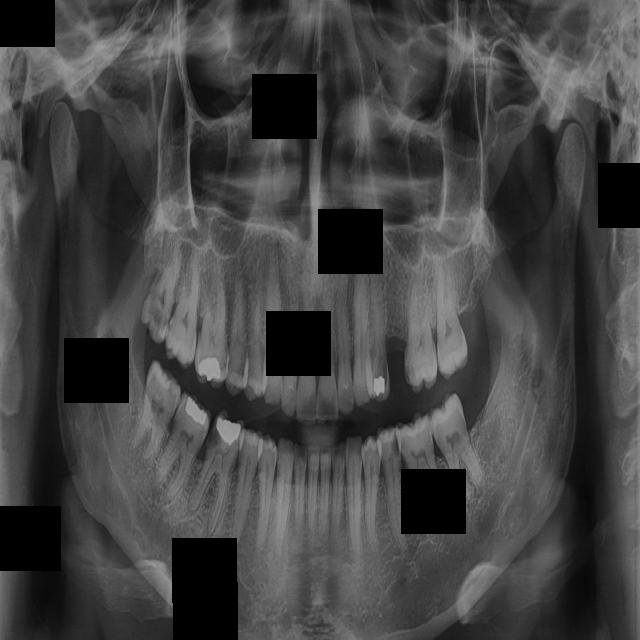NucleOSS Implant: (178, 394, 212, 428), (211, 411, 244, 444), (197, 355, 220, 382), (373, 375, 384, 396)
Sterngold Implant: (134, 296, 175, 339), (203, 419, 224, 460), (376, 348, 390, 388), (404, 361, 417, 385), (223, 351, 236, 374), (391, 429, 401, 454), (166, 317, 175, 335), (222, 351, 229, 373), (397, 437, 407, 450), (358, 437, 361, 461)
